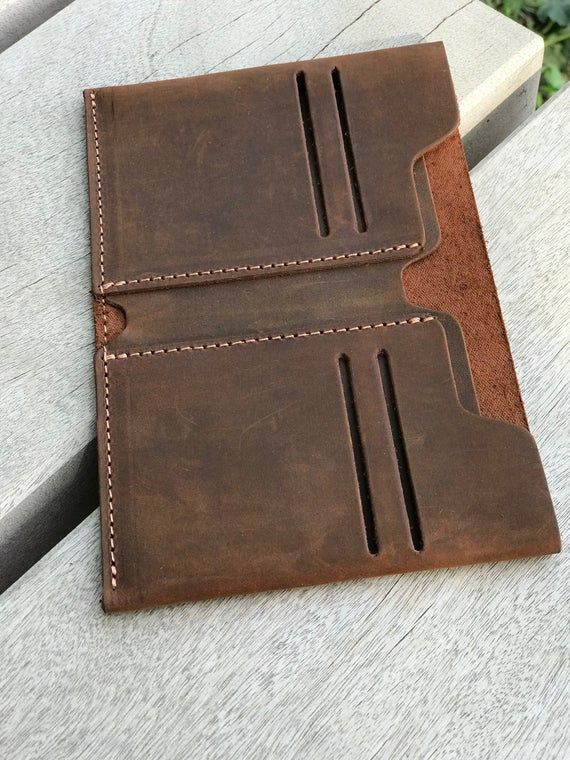cuero: (82, 40, 562, 616)
